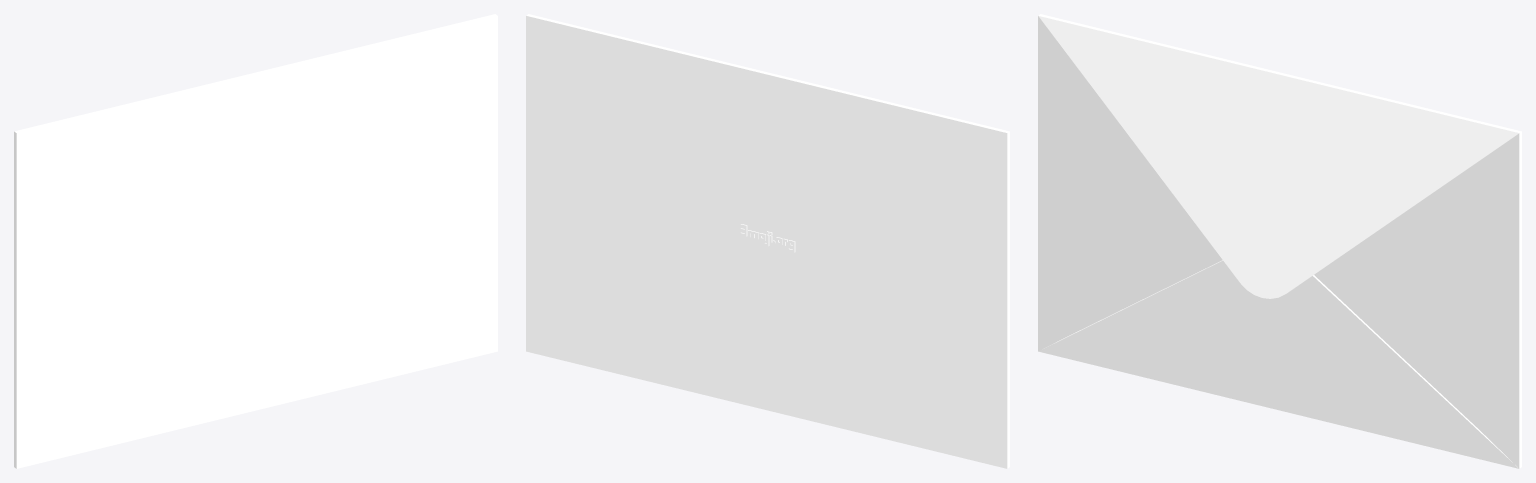
Rendered from envelope.glb.
3 views of the same model, side by side, from view 1: azimuth 30°, elevation 25°; view 2: azimuth 150°, elevation 25°; view 3: azimuth 330°, elevation 25° (orthographic).
Parts seen in each view (by area): view 1: Plane.332; view 2: Plane.332; view 3: Plane.332.
Part boxes in pixels (x1,y1,x2,y2): Plane.332: (14, 14, 497, 468); Plane.332: (526, 14, 1009, 468); Plane.332: (1038, 14, 1521, 468).
Bounding box in the file's own units: 2.34 × 1.56 × 0.1652.
Materials: 1 (1 with a texture image).
